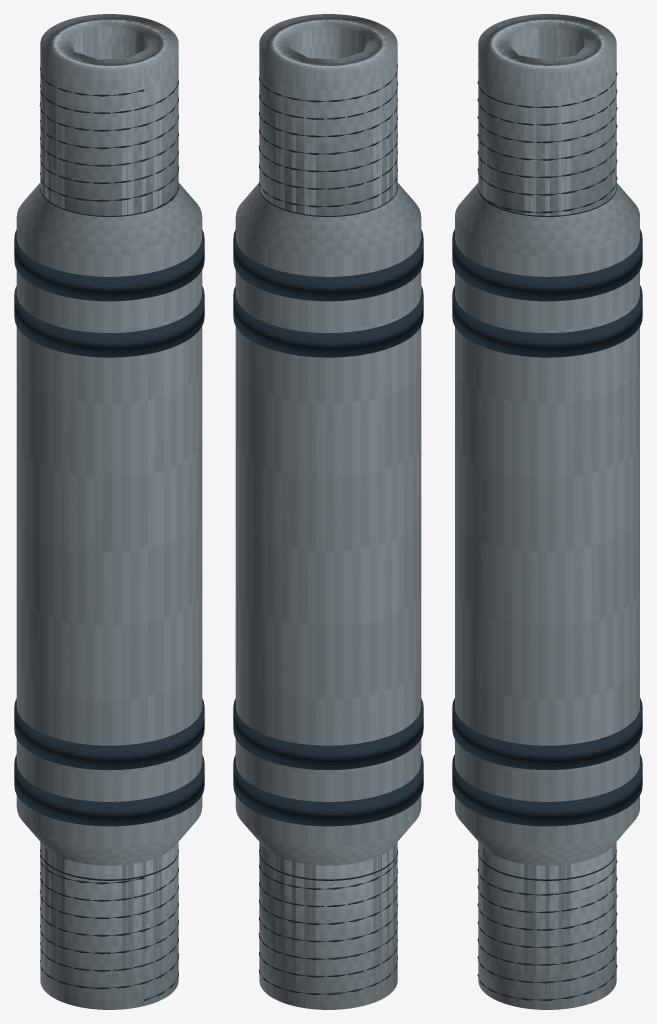
Rendered from fishing-sub.glb.
The picture shows the model from 3 angles, left to right: view 1: azimuth 30°, elevation 25°; view 2: azimuth 150°, elevation 25°; view 3: azimuth 270°, elevation 25°; orthographic projection.
Visible parts, largest first — view 1: tool-housing (×3), uphole-connection (×4), service-features (×2), downhole-connection (×3); view 2: tool-housing (×3), uphole-connection (×4), service-features (×2), downhole-connection (×3); view 3: tool-housing (×3), uphole-connection (×4), service-features (×2), downhole-connection (×3).
Part boxes in pixels (left/top/right/bottom): tool-housing (×3): left=16, top=14, right=202, bottom=1009; uphole-connection (×4): left=40, top=14, right=178, bottom=216; service-features (×2): left=14, top=230, right=204, bottom=826; downhole-connection (×3): left=40, top=842, right=178, bottom=1009; tool-housing (×3): left=235, top=14, right=421, bottom=1009; uphole-connection (×4): left=259, top=14, right=397, bottom=216; service-features (×2): left=233, top=230, right=423, bottom=826; downhole-connection (×3): left=259, top=842, right=397, bottom=1009; tool-housing (×3): left=455, top=14, right=639, bottom=1009; uphole-connection (×4): left=477, top=14, right=617, bottom=216; service-features (×2): left=452, top=229, right=642, bottom=826; downhole-connection (×3): left=477, top=842, right=617, bottom=1009.
Bounding box in the file's own units: 0.1194 × 0.65 × 0.1194.
Materials: 2 (2 with a texture image).
